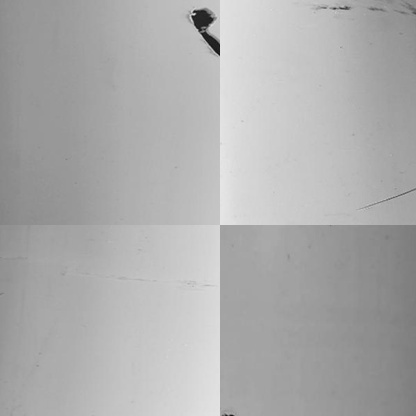kongdong: (185, 7, 222, 56)
sunshang: (354, 187, 416, 210)
